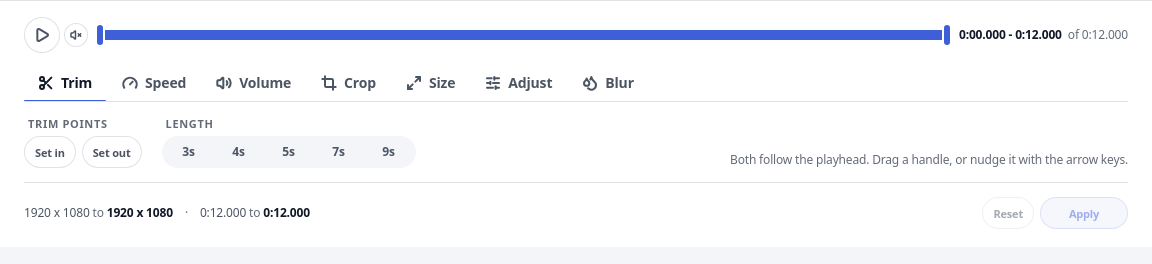
Test case: VideoEditPanel › tools › explains the open tool, and says nothing where the controls speak for themselves
Expected: the text "follow the playhead" is shown, x1=730 y1=151 x2=1128 y2=168
Click the button "Volume" at (254, 84), box x1=202 y1=67 x2=305 y2=101
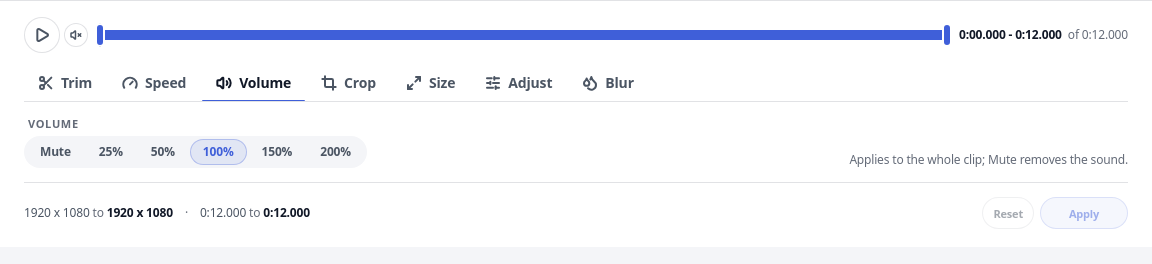
Now the text "follow the playhead" is gone
Now the text "Applies to the whole clip; Mute removes the sound." is shown, box x1=849 y1=152 x2=1128 y2=168
Click the button "Adjust" at (519, 84), box x1=471 y1=67 x2=566 y2=101
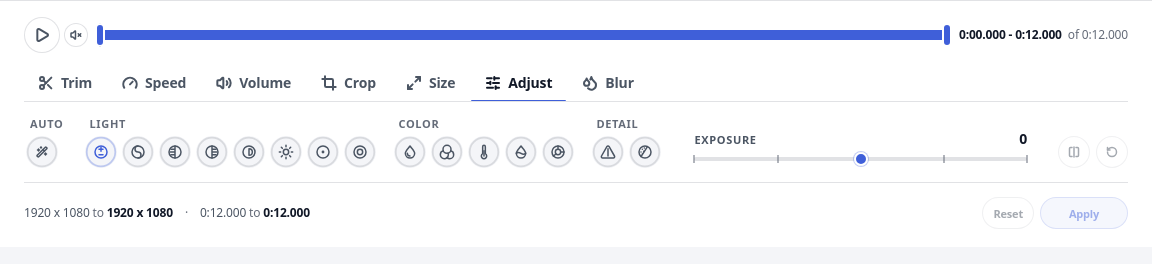
Now the text "whole clip" is gone
